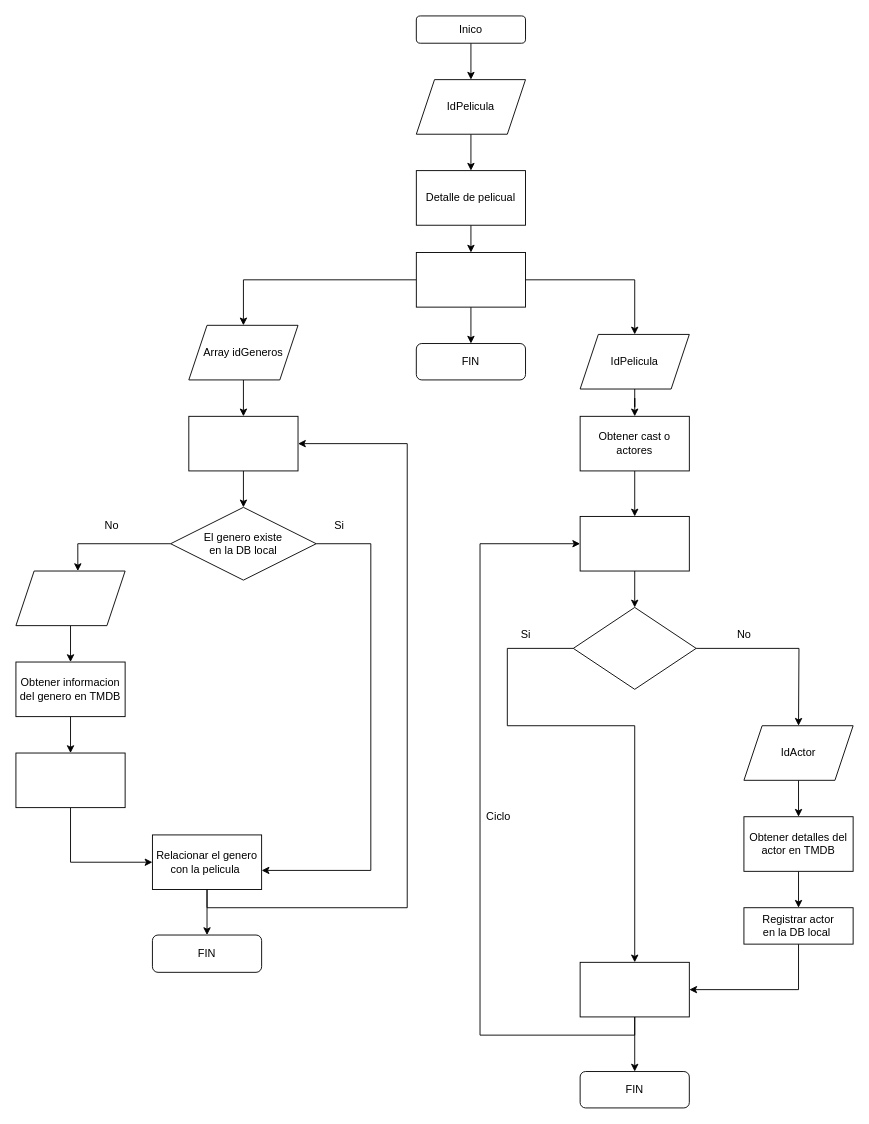
This 869x1124 diagram has some shape labels left out. The box of each missing label's shape, as (x1, y1, x2, y2) in pixels:
Buscar actor en DB local: (579, 516, 689, 571)
Buscar genero en la DB local: (188, 415, 298, 471)
El actor existe en la DB local?: (572, 607, 696, 689)
Guardar Pelicula: (415, 252, 526, 307)
IdGenero: (15, 570, 125, 626)
Registrar el genro en la DB local: (15, 752, 125, 808)
Relacionar la pelicula con el actor en la db local: (579, 961, 689, 1017)
